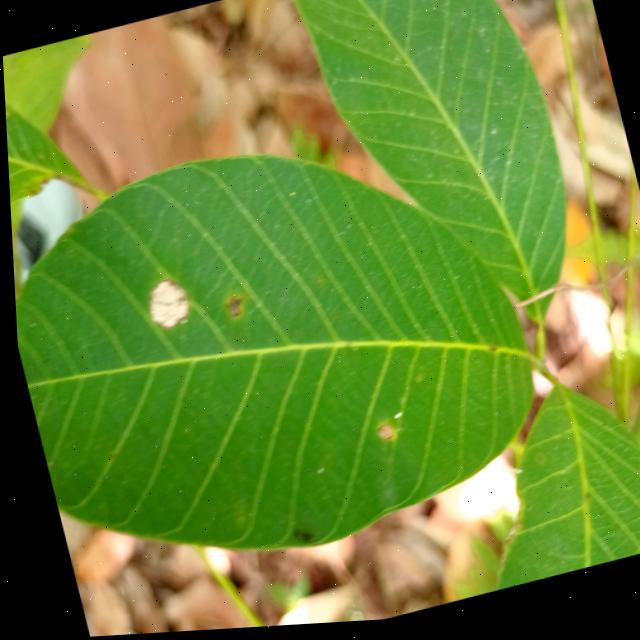Leaf-Blight: (140, 278, 190, 334)
